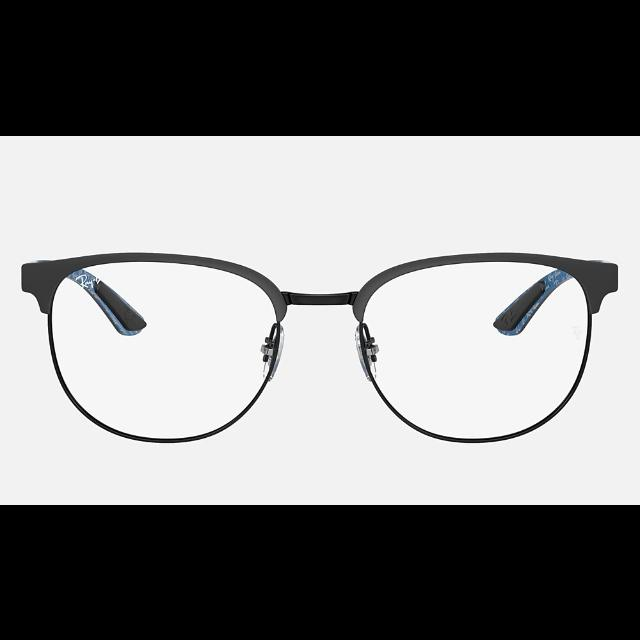glasses: (22, 251, 620, 444)
